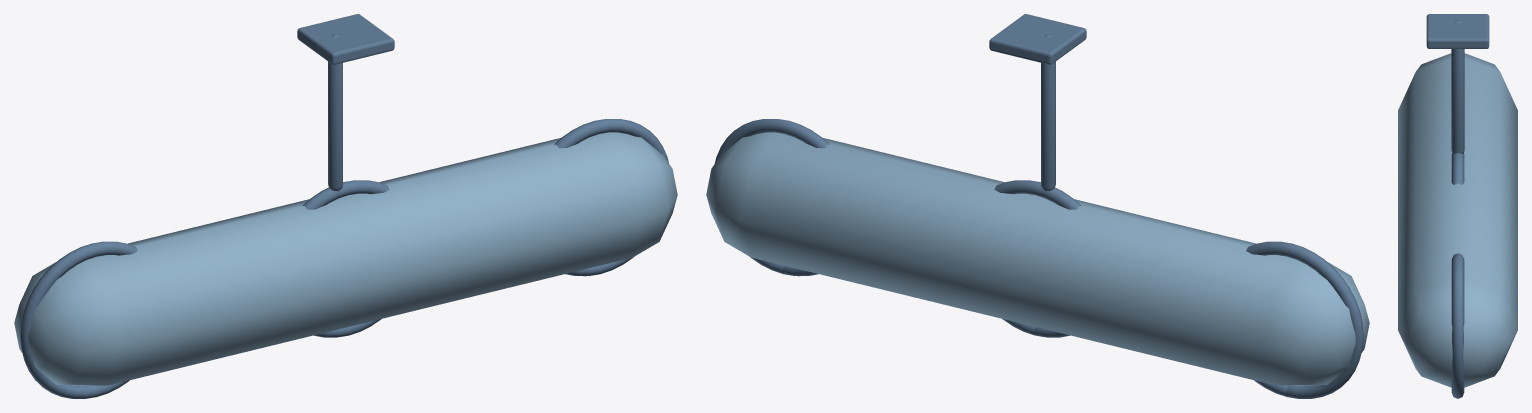
The model's file is duct_module.glb.
The picture shows the model from 3 angles, left to right: view 1: azimuth 30°, elevation 25°; view 2: azimuth 150°, elevation 25°; view 3: azimuth 270°, elevation 25°; orthographic projection. The views are drawn at different scales.
Visible parts, largest first — view 1: Main_duct, Flange_ring, Ceiling_anchor, Flange_ring.002, Hanger, Flange_ring.001; view 2: Main_duct, Flange_ring, Ceiling_anchor, Flange_ring.002, Hanger, Flange_ring.001; view 3: Main_duct, Ceiling_anchor, Flange_ring.002, Hanger, Flange_ring.001.
Boxes of the visible parts, <box> form: Main_duct: <box>14,132,677,385</box>; Flange_ring: <box>20,241,137,398</box>; Ceiling_anchor: <box>297,14,394,64</box>; Flange_ring.002: <box>554,119,668,276</box>; Hanger: <box>328,34,342,191</box>; Flange_ring.001: <box>302,180,389,337</box>; Main_duct: <box>706,132,1369,385</box>; Flange_ring: <box>1246,241,1363,398</box>; Ceiling_anchor: <box>989,14,1086,64</box>; Flange_ring.002: <box>715,119,829,276</box>; Hanger: <box>1041,34,1055,191</box>; Flange_ring.001: <box>994,180,1081,337</box>; Main_duct: <box>1398,53,1517,387</box>; Ceiling_anchor: <box>1426,14,1489,48</box>; Flange_ring.002: <box>1451,253,1464,398</box>; Hanger: <box>1451,20,1464,153</box>; Flange_ring.001: <box>1451,153,1464,184</box>.
Size of the model in its own units: 1.24 by 0.553 by 0.23.
